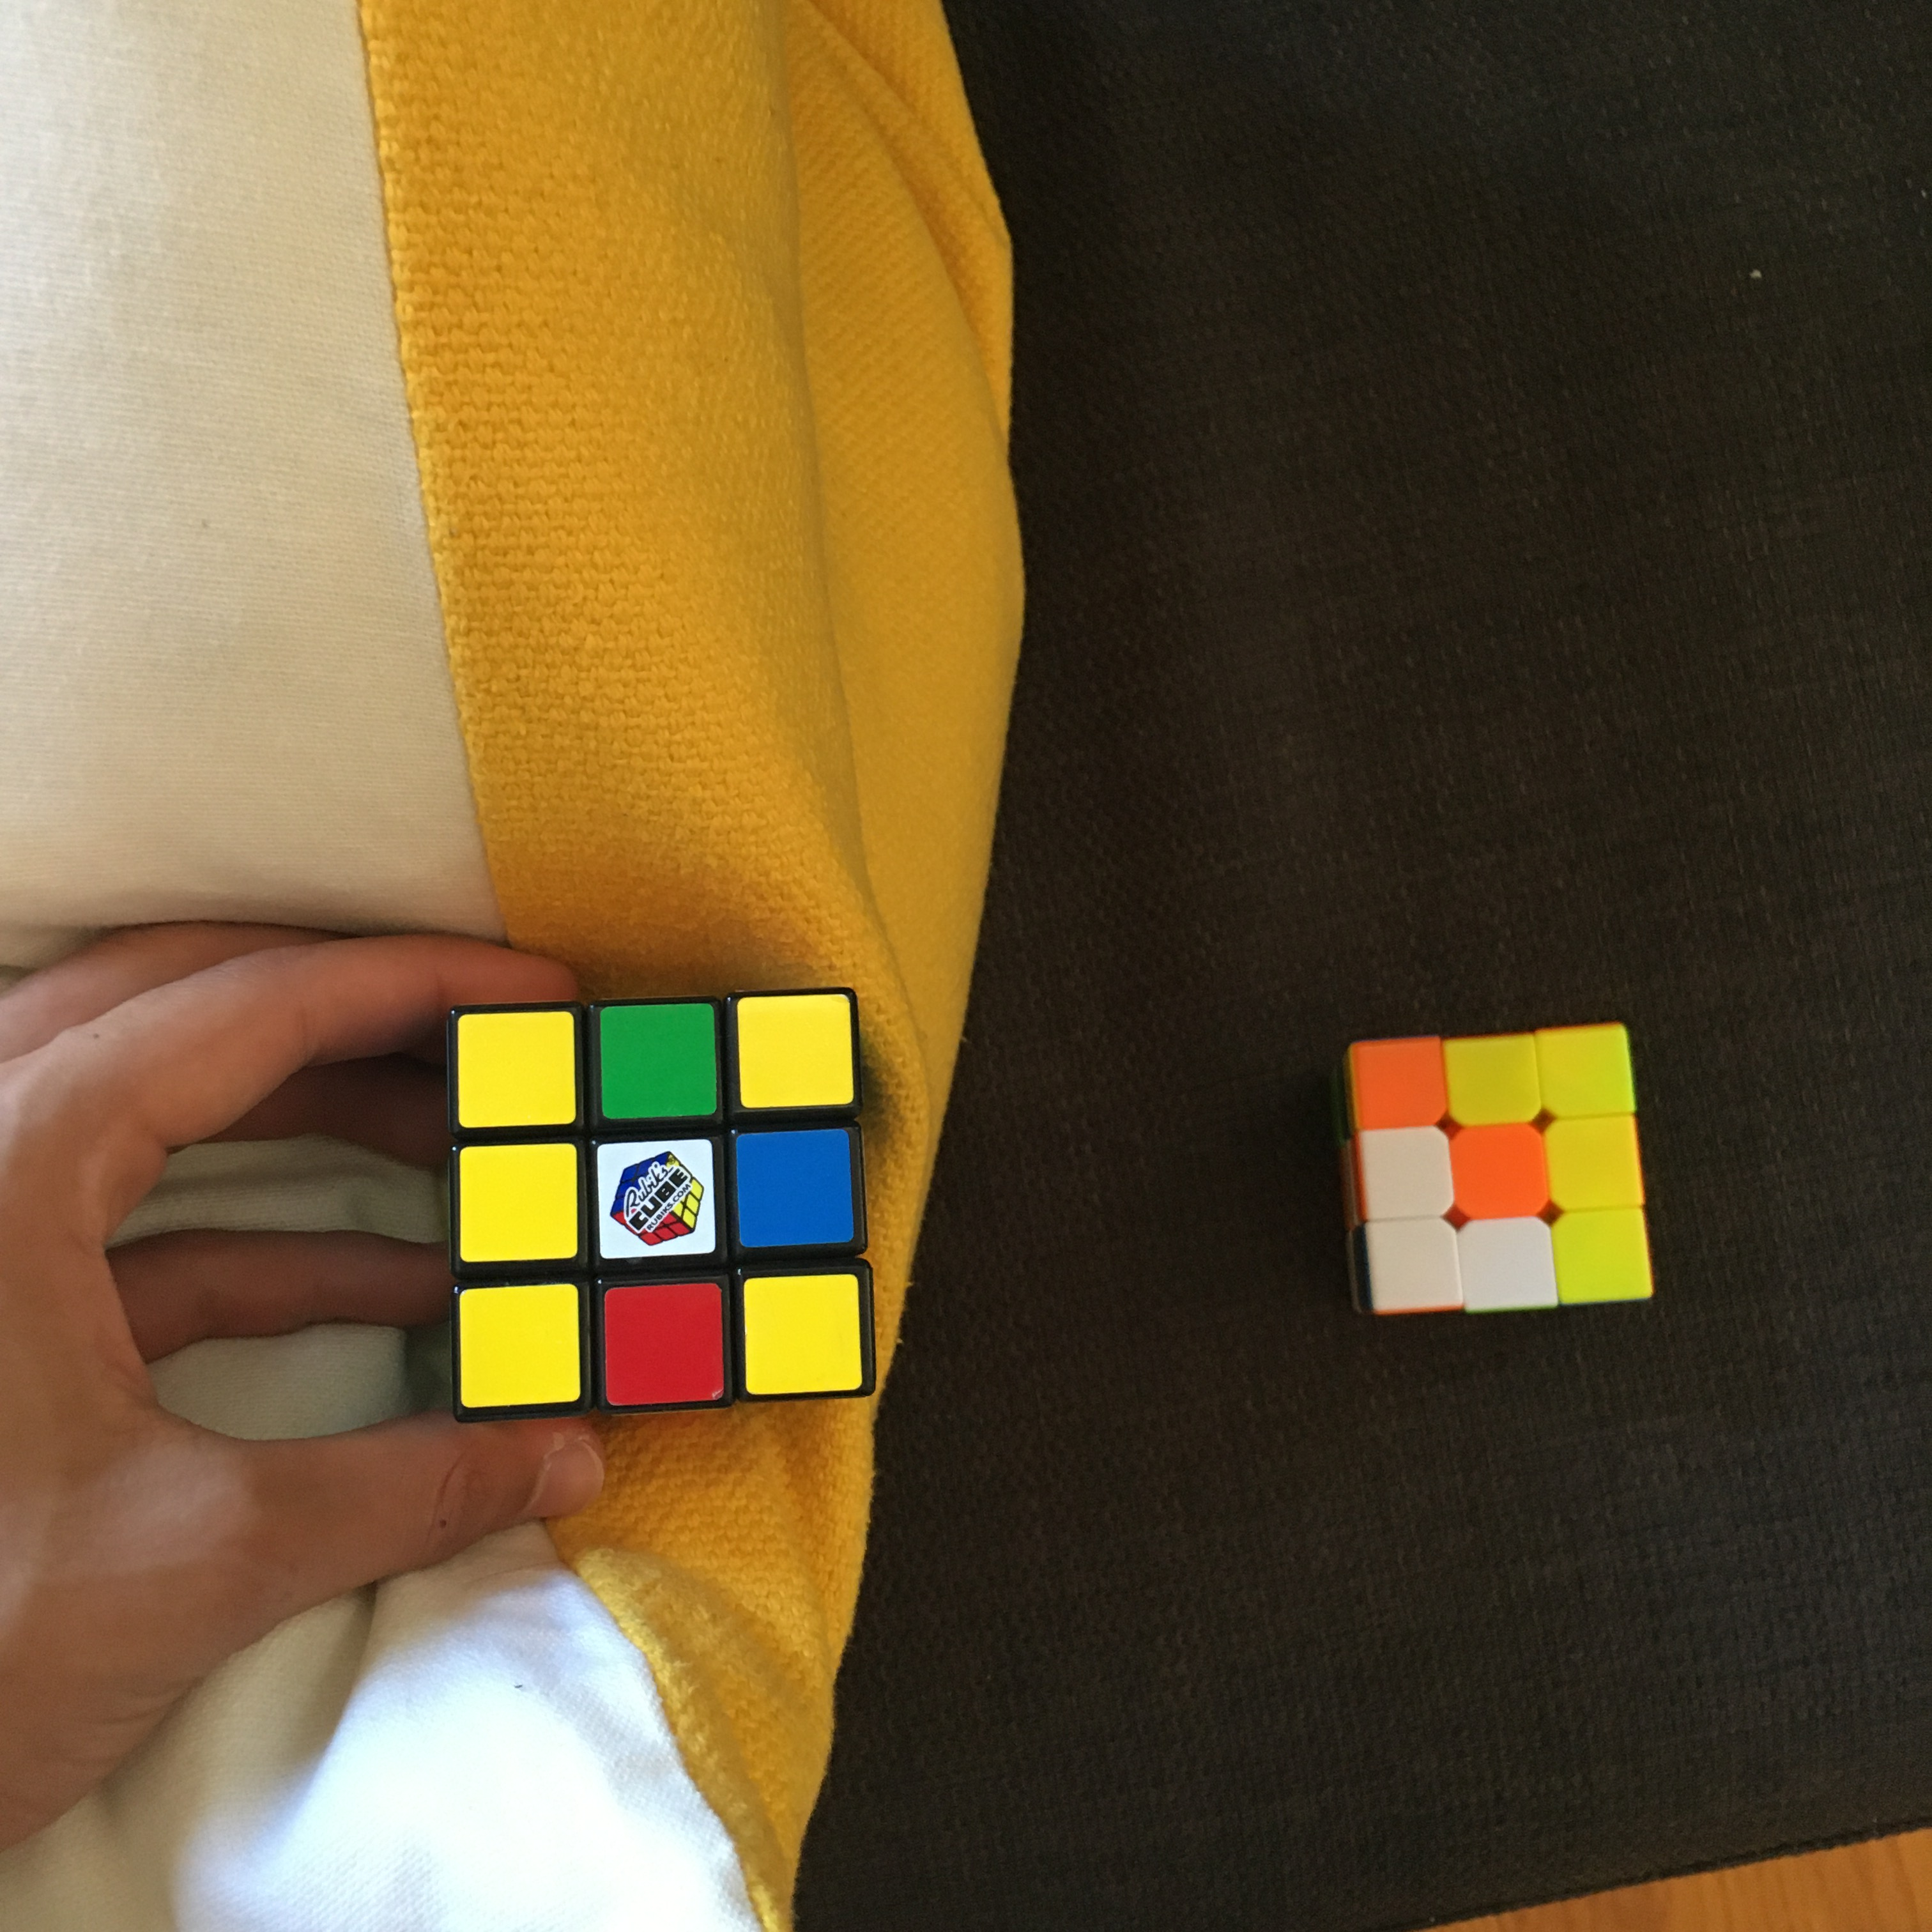face: (451, 992, 877, 1410), (1351, 1021, 1658, 1312)
